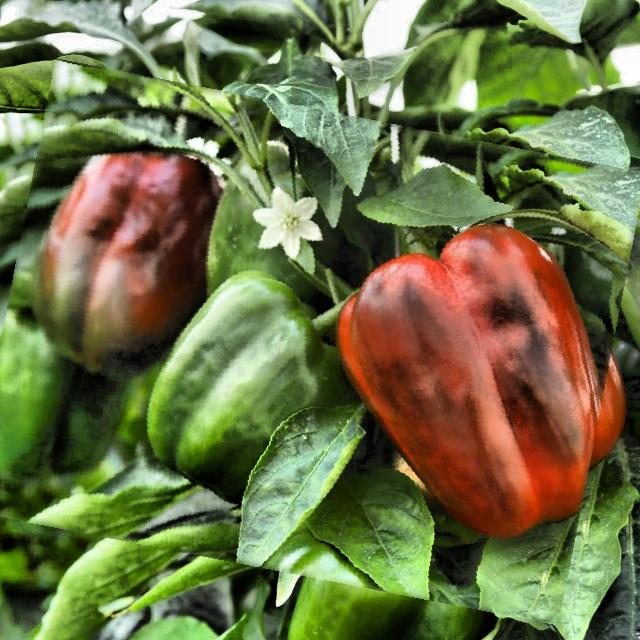red capsicum: (0, 84, 627, 598)
